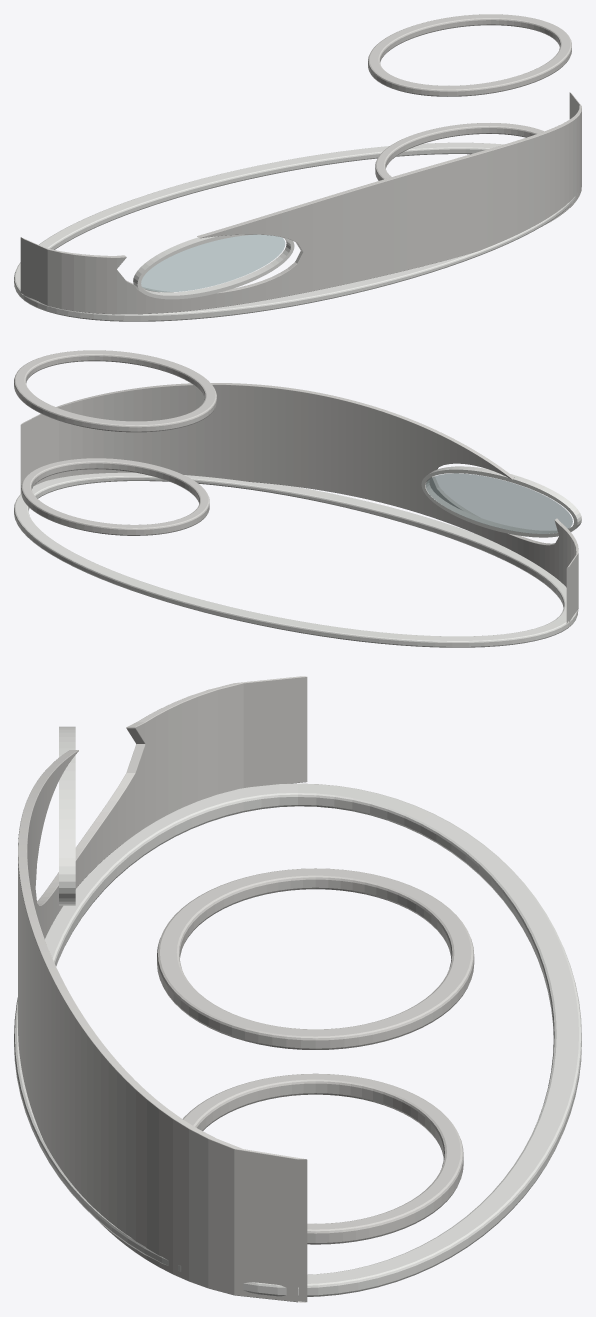
Rendered from shanghai-cinema-hybrid-identity.glb.
3 renders of one model, top to bottom at view 1: azimuth 30°, elevation 25°; view 2: azimuth 150°, elevation 25°; view 3: azimuth 270°, elevation 25°, orthographic. The views are drawn at different scales.
Parts seen in each view (by area): view 1: shanghai-cinema-hybrid-identity; view 2: shanghai-cinema-hybrid-identity; view 3: shanghai-cinema-hybrid-identity.
Boxes of the visible parts, box(x1,y1,x2,y2) form: shanghai-cinema-hybrid-identity: box(14, 14, 581, 321); shanghai-cinema-hybrid-identity: box(14, 350, 581, 647); shanghai-cinema-hybrid-identity: box(14, 676, 581, 1302).
Bounding box in the file's own units: 30.4 × 7.34 × 14.5.
